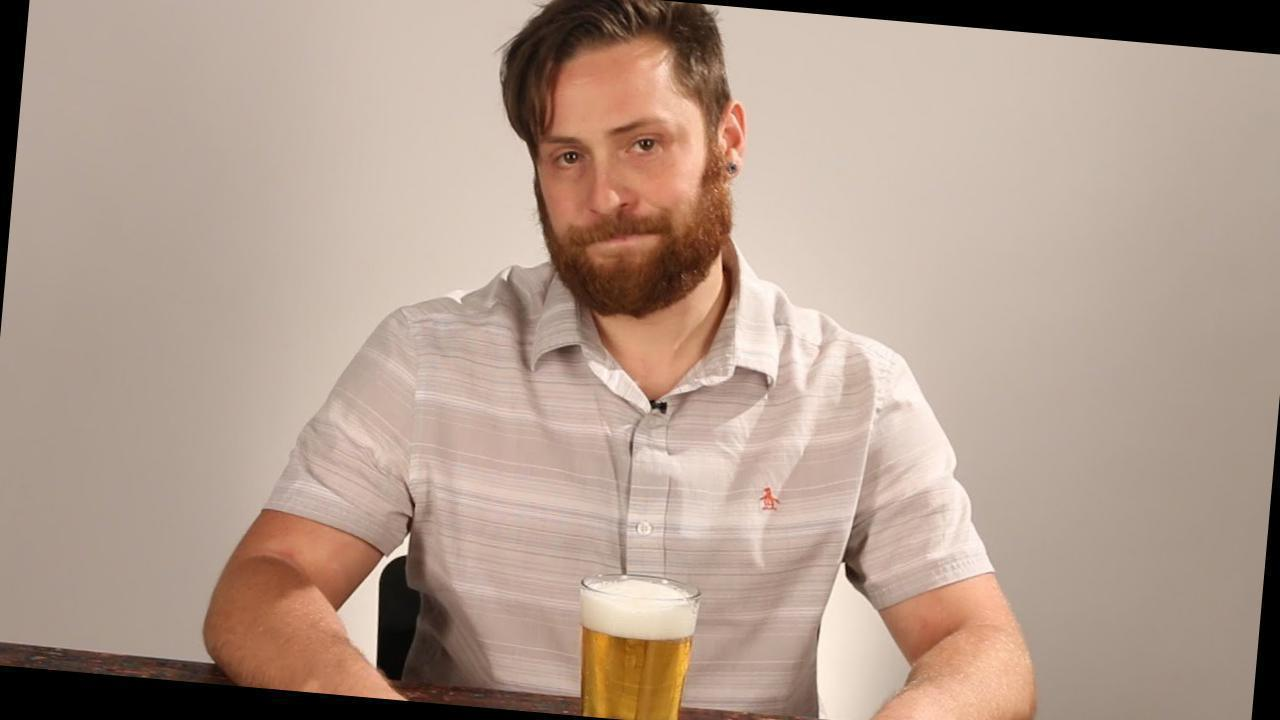Drunk: (539, 59, 708, 289)
